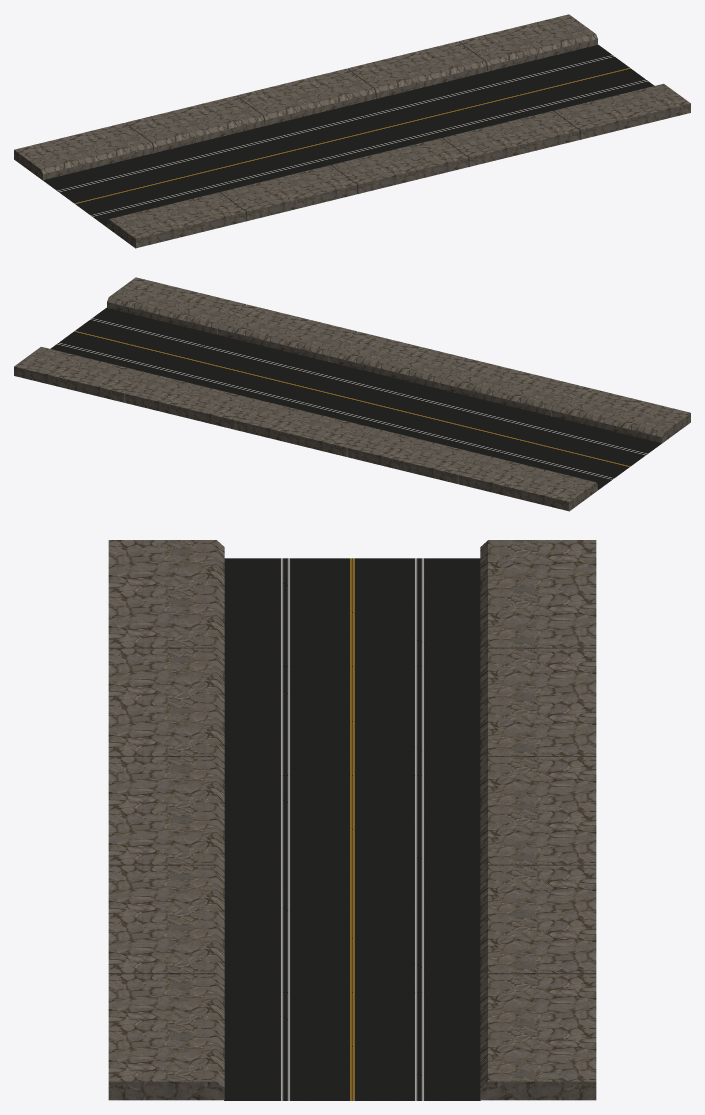
Rendered from Road.obj.
The picture shows the model from 3 angles, top to bottom: view 1: azimuth 30°, elevation 25°; view 2: azimuth 150°, elevation 25°; view 3: azimuth 270°, elevation 25°; orthographic projection. The views are drawn at different scales.
Parts seen in each view (by area): view 1: Plane.001; view 2: Plane.001; view 3: Plane.001.
Part boxes in pixels (x1=…): Plane.001: x1=14, y1=14, x2=690, y2=248; Plane.001: x1=14, y1=277, x2=690, y2=511; Plane.001: x1=108, y1=540, x2=596, y2=1100.
Size of the model in its own units: 19.16 by 0.3207 by 7.28.
Materials: 2 (2 with a texture image).
